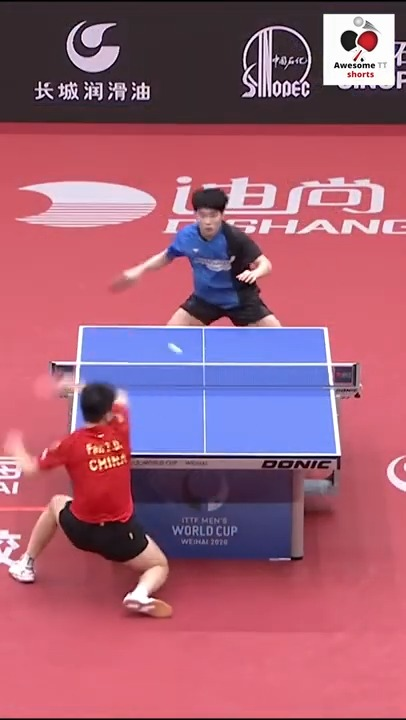Ball: (169, 339, 181, 354)
